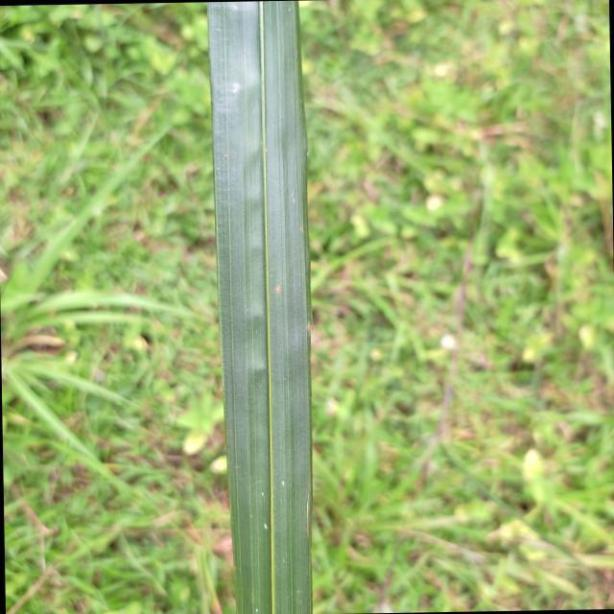Boron: (201, 5, 315, 614)
